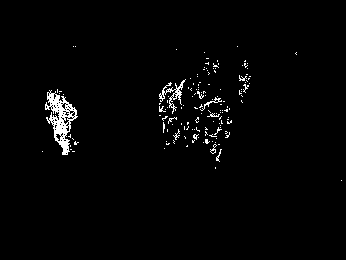person: (43, 89, 78, 159), (204, 94, 232, 172), (161, 78, 183, 148)
